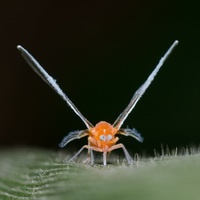insect: (17, 40, 178, 165)
